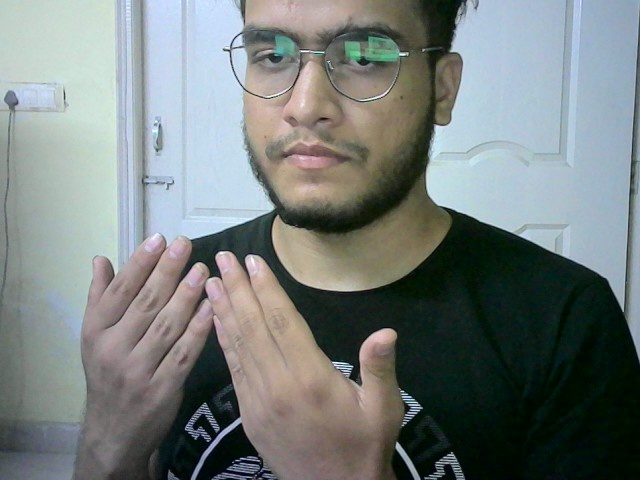Thank You: (72, 234, 419, 458)
